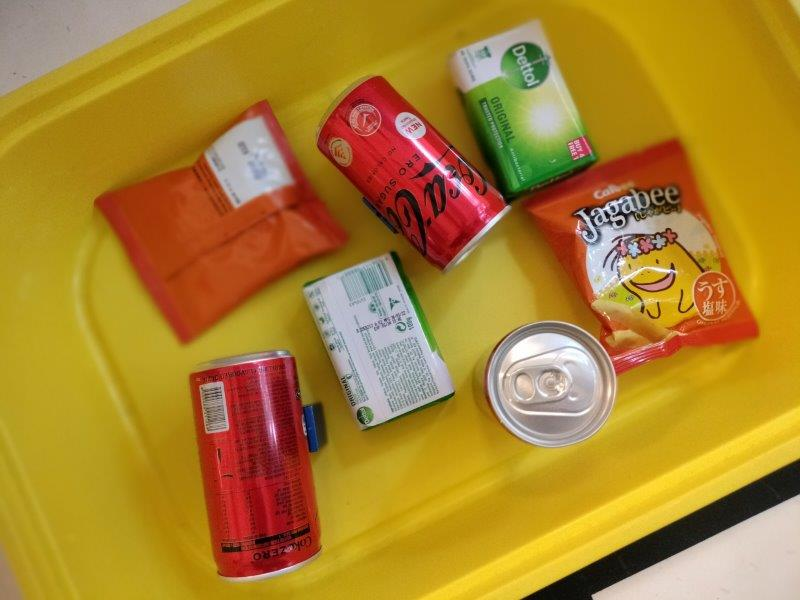Coke: (316, 75, 513, 273), (185, 350, 322, 582), (471, 321, 619, 448)
Dettol: (300, 251, 455, 433), (445, 18, 599, 197)
Jagabee: (95, 100, 349, 341), (520, 139, 759, 377)
